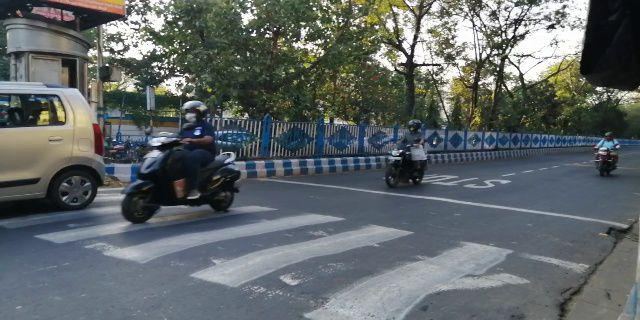Car: (1, 80, 114, 211)
Motorbike: (117, 98, 242, 225), (376, 118, 432, 193), (592, 130, 624, 178)
